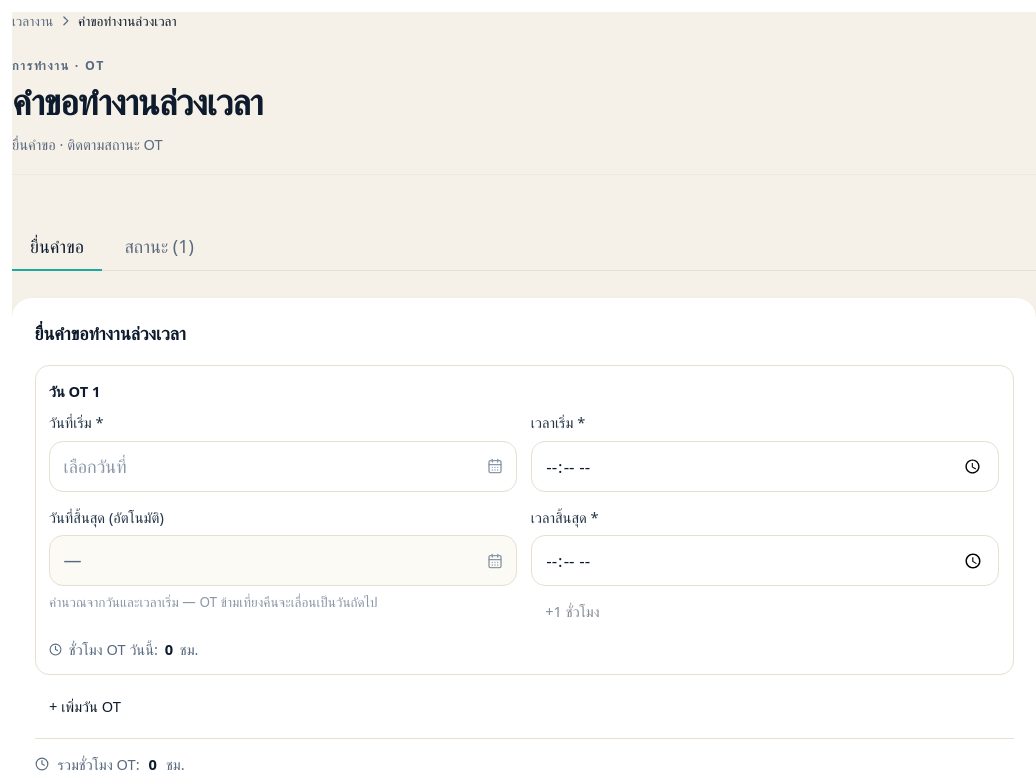
/overtime — STA-256 date/time entry › auto-fills the end date (same day; +1 day for cross-midnight) with no editable input
Type "2026-07-08" into the date field with test id "ot-start-date-0" at (283, 466), box [49,441,517,492]
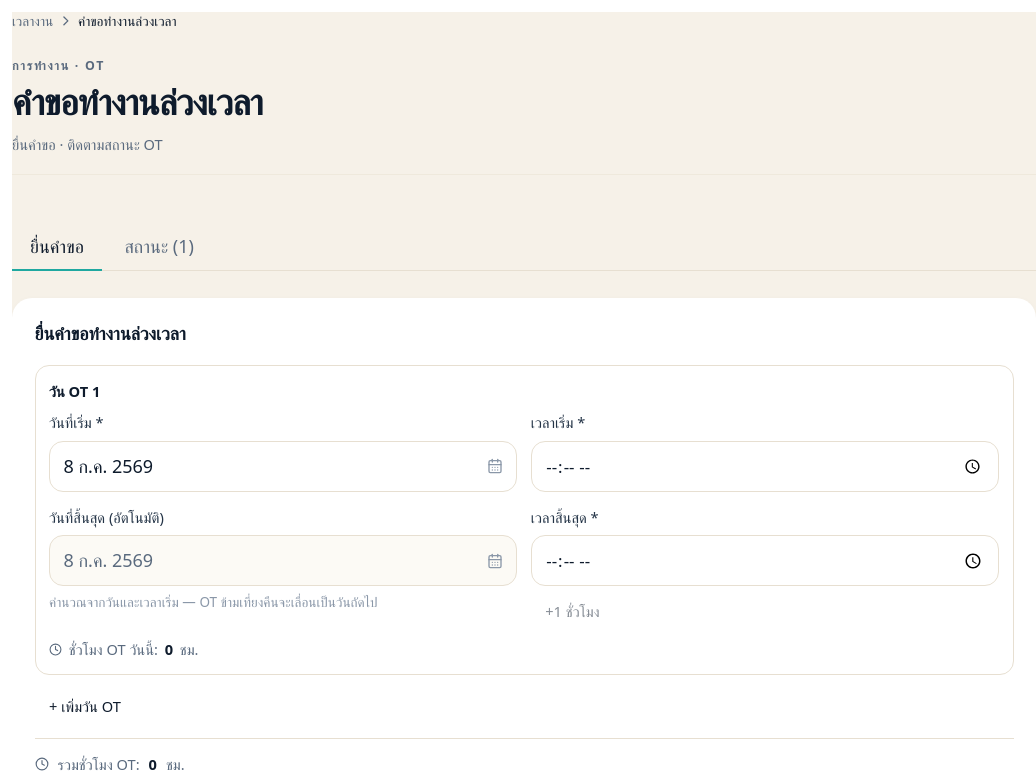
Type "18:00" into the time field with test id "ot-start-time-0" at (765, 466), box [531,441,999,492]
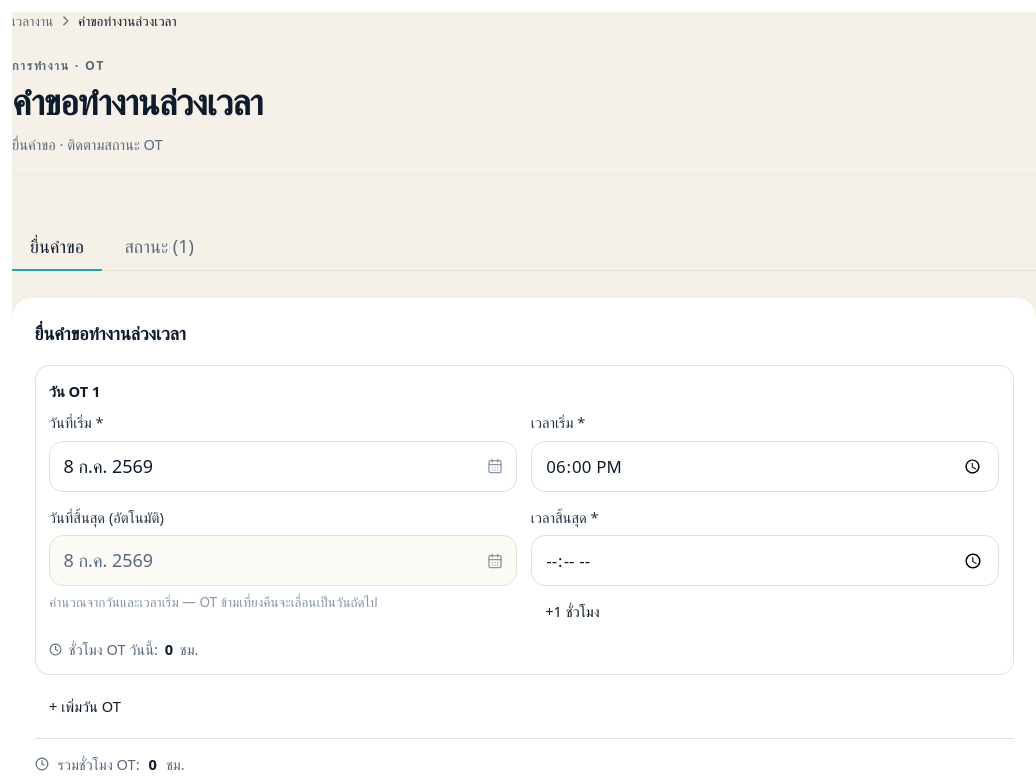
Type "20:00" into the time field with test id "ot-end-time-0" at (765, 561), box [531,535,999,586]
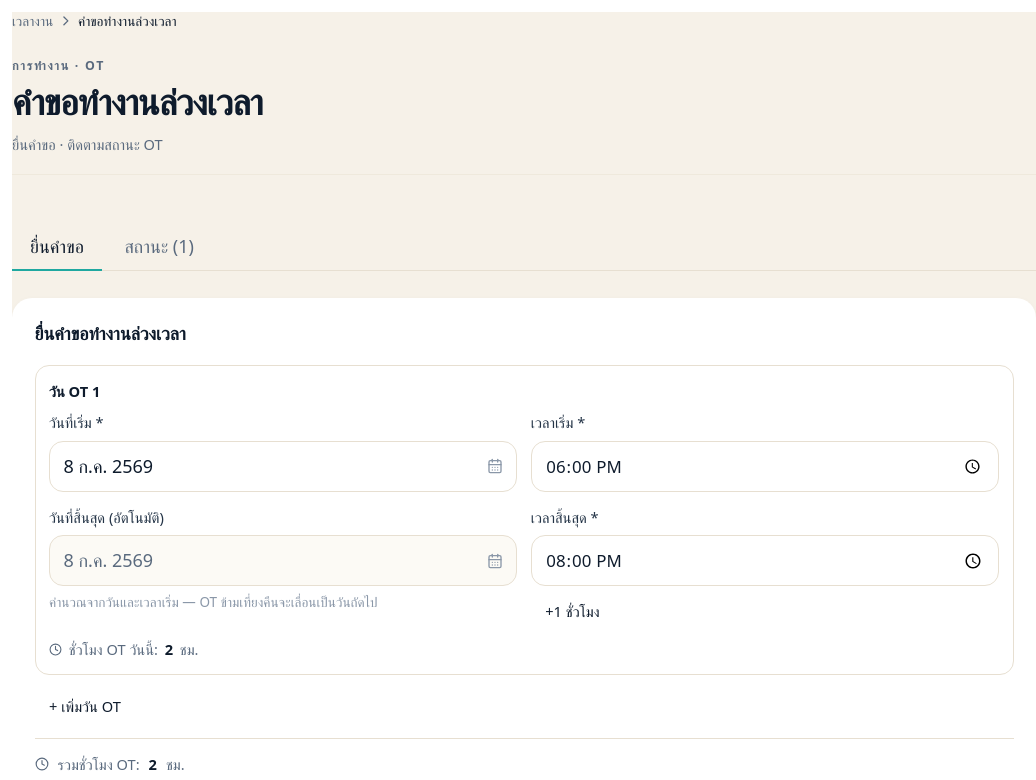
Expected: the element with test id "ot-end-date-0-display" reads "8 ก.ค. 2569", [64,548,153,572]
// Cross-midnight (end ≤ start) → end date rolls to the next day.
Replace the text in the time field with test id "ot-end-time-0" with "01:00" at (765, 561), box [531,535,999,586]
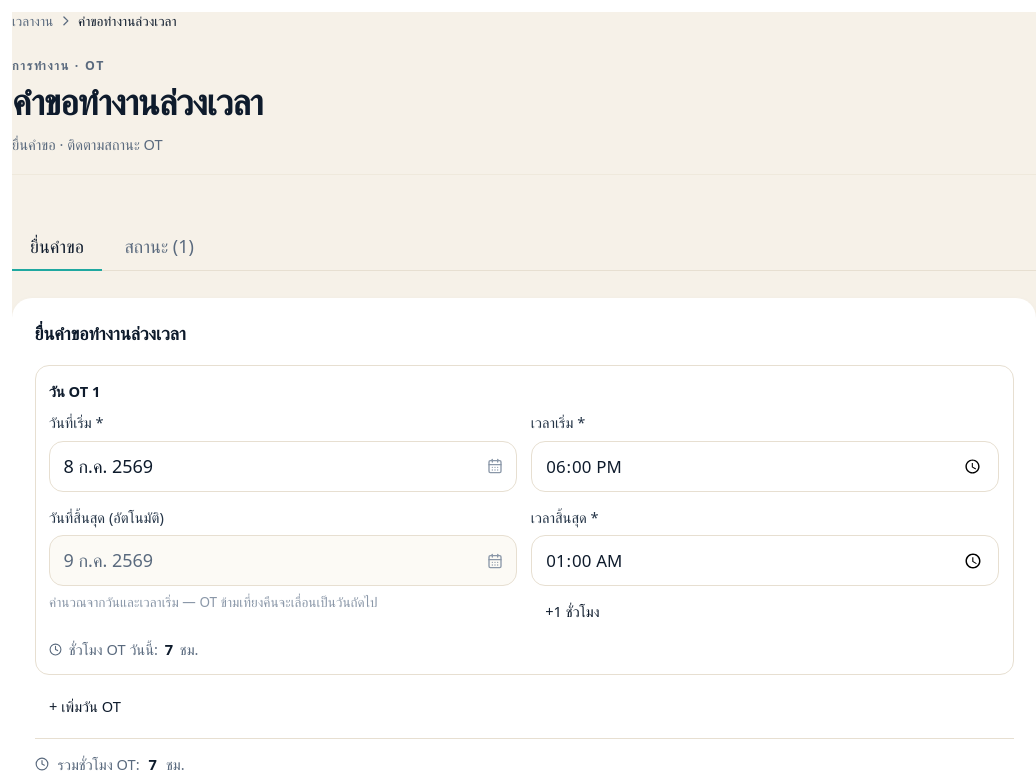
Expected: the element with test id "ot-end-date-0-display" reads "9 ก.ค. 2569", [64,548,153,572]
